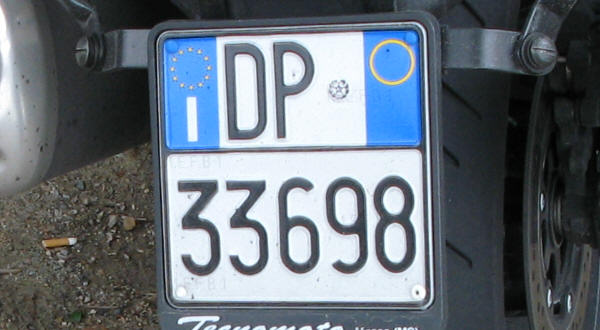license_plate: (155, 19, 435, 310)
